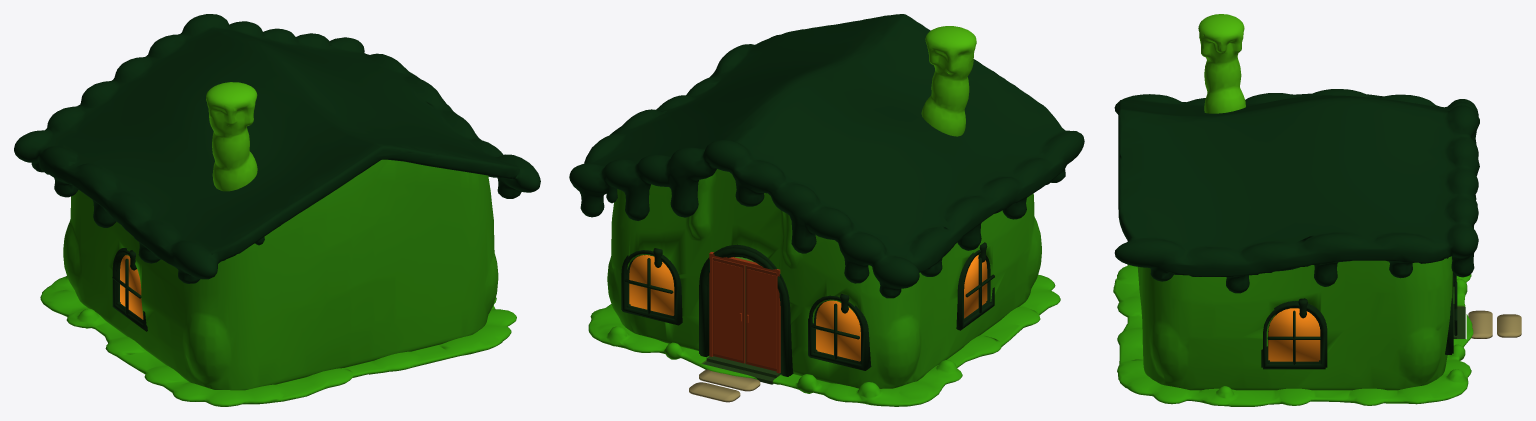
Rendered from gloop-house-visual.obj.
3 views of the same model, side by side, from view 1: azimuth 30°, elevation 25°; view 2: azimuth 150°, elevation 25°; view 3: azimuth 270°, elevation 25° (orthographic). The views are drawn at different scales.
Parts seen in each view (by area): view 1: Roof_Cutaway_01, Walls_01, Puddles_01, Chimney_Cutaway_01, SideWindows; view 2: Roof_Cutaway_01, Walls_01, Puddles_01, FrontWindows, Chimney_Cutaway_01, EntryFrame_Cutaway_01, HouseDoorLeaf_L_Panel, HouseDoorLeaf_R_Panel, SideWindows, Floor, HouseDoorLeaf_L, HouseDoorLeaf_R (+1 smaller); view 3: Roof_Cutaway_01, Walls_01, Puddles_01, SideWindows, Chimney_Cutaway_01, Floor, FrontWindows.
Part boxes in pixels (box(x1,y1,x2,y2)): Roof_Cutaway_01: box(14, 14, 540, 283); Walls_01: box(63, 159, 498, 390); Puddles_01: box(40, 276, 516, 406); Chimney_Cutaway_01: box(206, 82, 257, 191); SideWindows: box(112, 248, 147, 331); Roof_Cutaway_01: box(569, 14, 1084, 298); Walls_01: box(607, 169, 1041, 388); Puddles_01: box(588, 274, 1060, 406); FrontWindows: box(621, 248, 871, 370); Chimney_Cutaway_01: box(921, 26, 976, 136); EntryFrame_Cutaway_01: box(699, 244, 793, 376); HouseDoorLeaf_L_Panel: box(713, 260, 742, 360); HouseDoorLeaf_R_Panel: box(747, 269, 776, 368); SideWindows: box(956, 242, 994, 330); Floor: box(689, 369, 760, 402); HouseDoorLeaf_L: box(712, 257, 745, 363); HouseDoorLeaf_R: box(745, 265, 776, 371); Roof_Cutaway_01: box(1114, 89, 1479, 293); Walls_01: box(1137, 256, 1452, 390); Puddles_01: box(1113, 264, 1473, 406); SideWindows: box(1261, 298, 1327, 369); Chimney_Cutaway_01: box(1198, 14, 1245, 113); Floor: box(1468, 310, 1521, 338); FrontWindows: box(1445, 272, 1457, 354).
Size of the model in its own units: 31.48 by 23.62 by 32.48.
